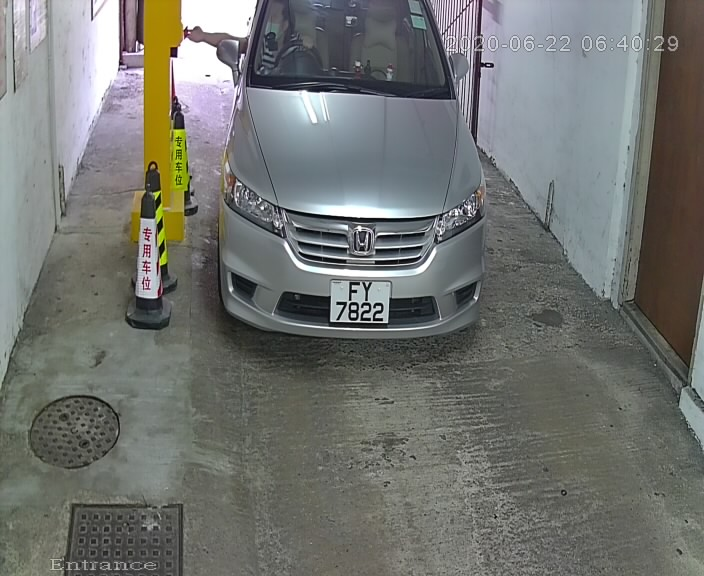privatecar: (180, 1, 525, 397)
